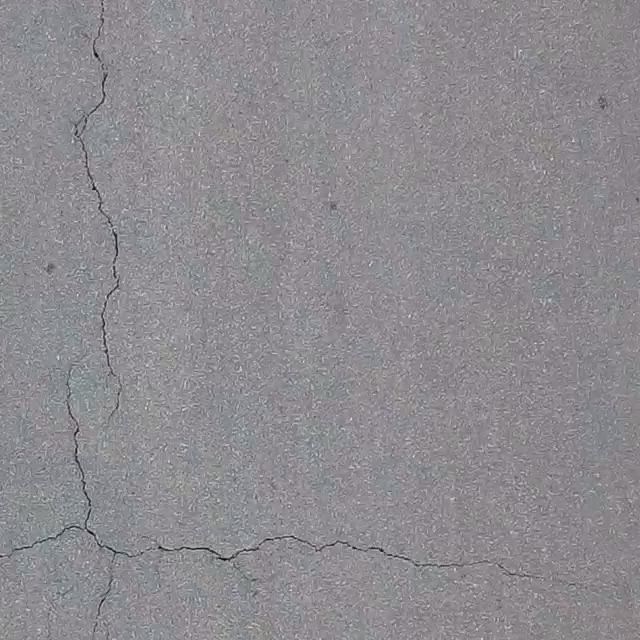GRIETA: (87, 529, 547, 579), (74, 0, 121, 413), (65, 364, 91, 530), (0, 525, 83, 558), (91, 555, 117, 639)
